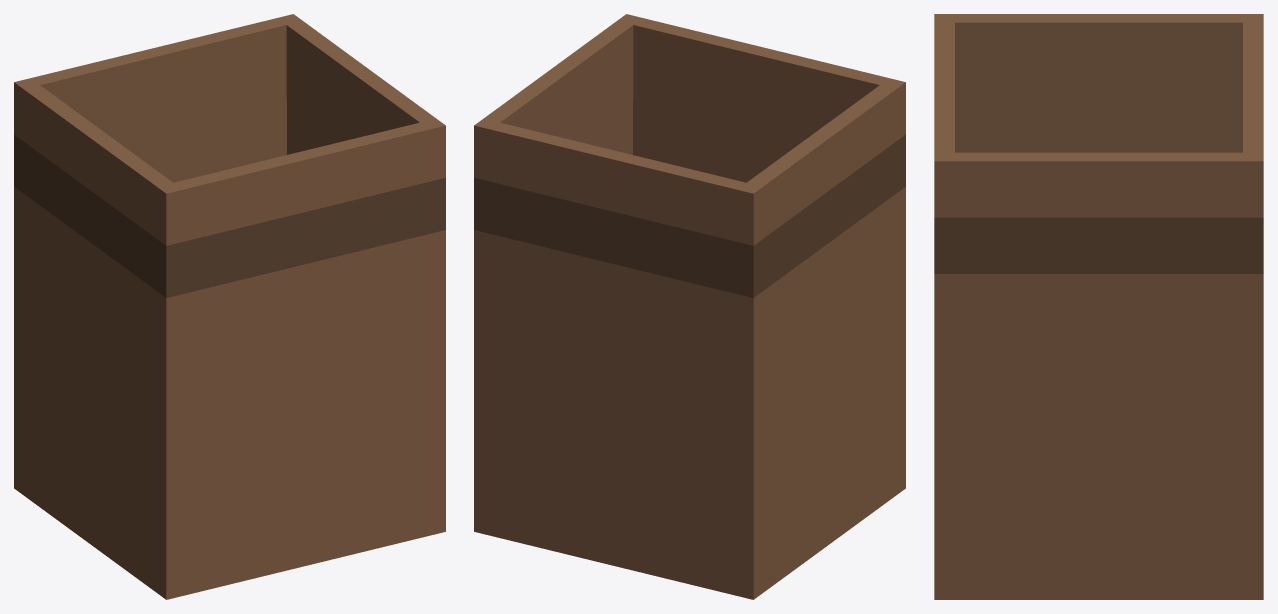
File: Bucket_2_Light_Brown.fbx
The picture shows the model from 3 angles, left to right: view 1: azimuth 30°, elevation 25°; view 2: azimuth 150°, elevation 25°; view 3: azimuth 270°, elevation 25°; orthographic projection. The views are drawn at different scales.
Parts seen in each view (by area): view 1: Bucket_2_Light_Brown; view 2: Bucket_2_Light_Brown; view 3: Bucket_2_Light_Brown.
Part boxes in pixels (box(x1,y1,x2,y2)): Bucket_2_Light_Brown: box(14, 14, 445, 599); Bucket_2_Light_Brown: box(474, 14, 905, 599); Bucket_2_Light_Brown: box(934, 14, 1263, 599).
Bounding box in the file's own units: 36 × 50 × 34.
